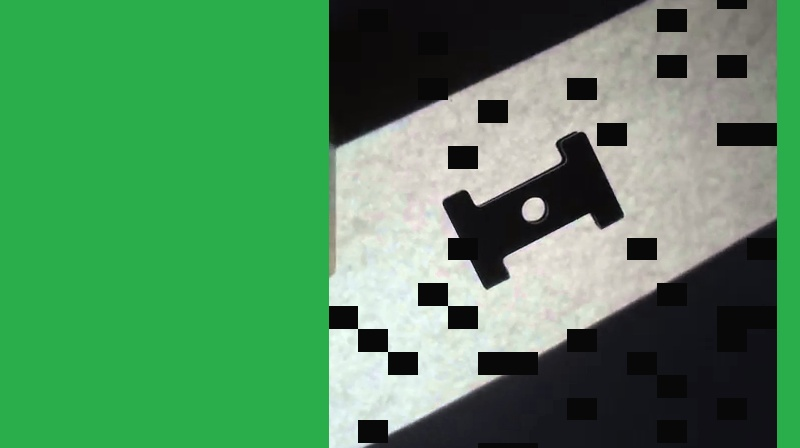O002: (437, 129, 626, 292)
